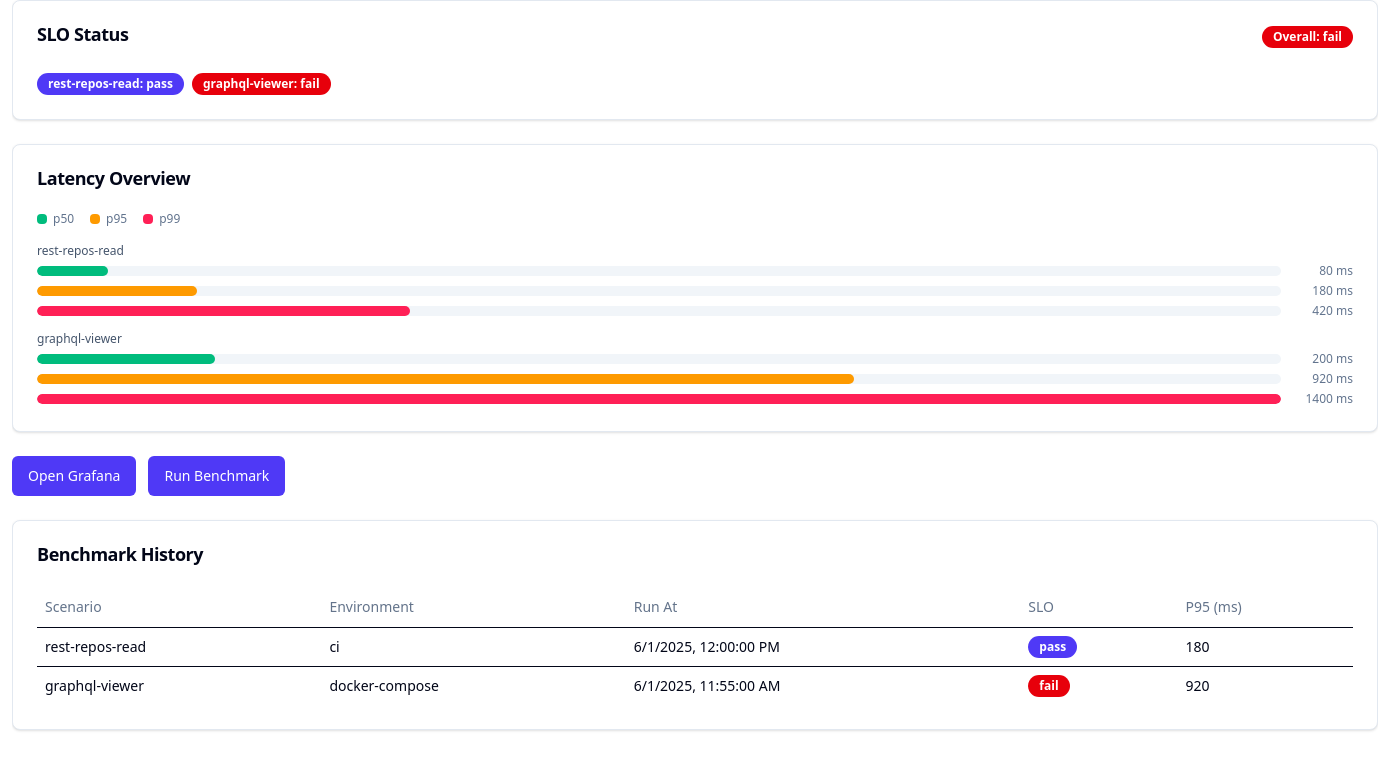
PerformanceClient › when runBenchmark resolves with 409 error, shows conflict message text
Step 1. Click the button "Run Benchmark" → (217, 476), box x1=148 y1=456 x2=285 y2=496
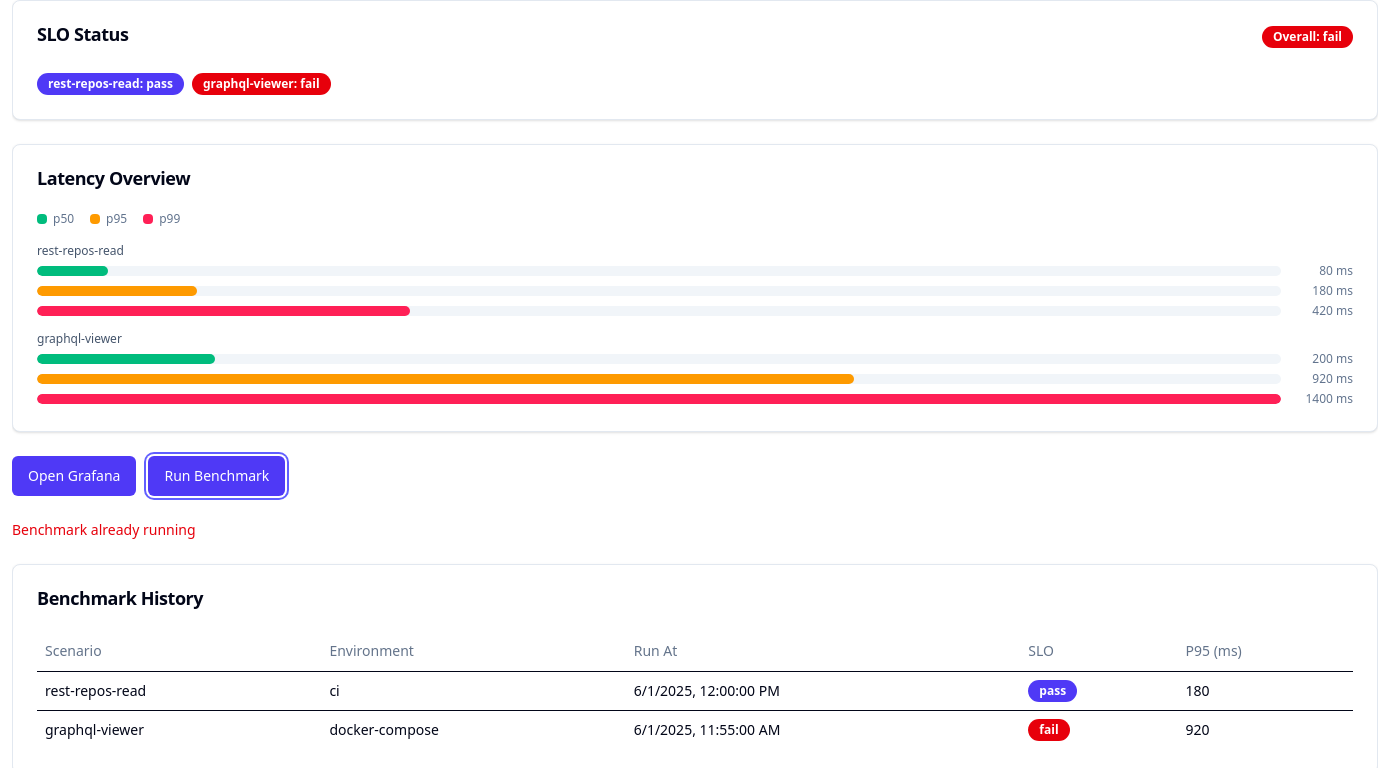
Expected: the text "Benchmark already running" is shown, x1=12 y1=520 x2=196 y2=539
